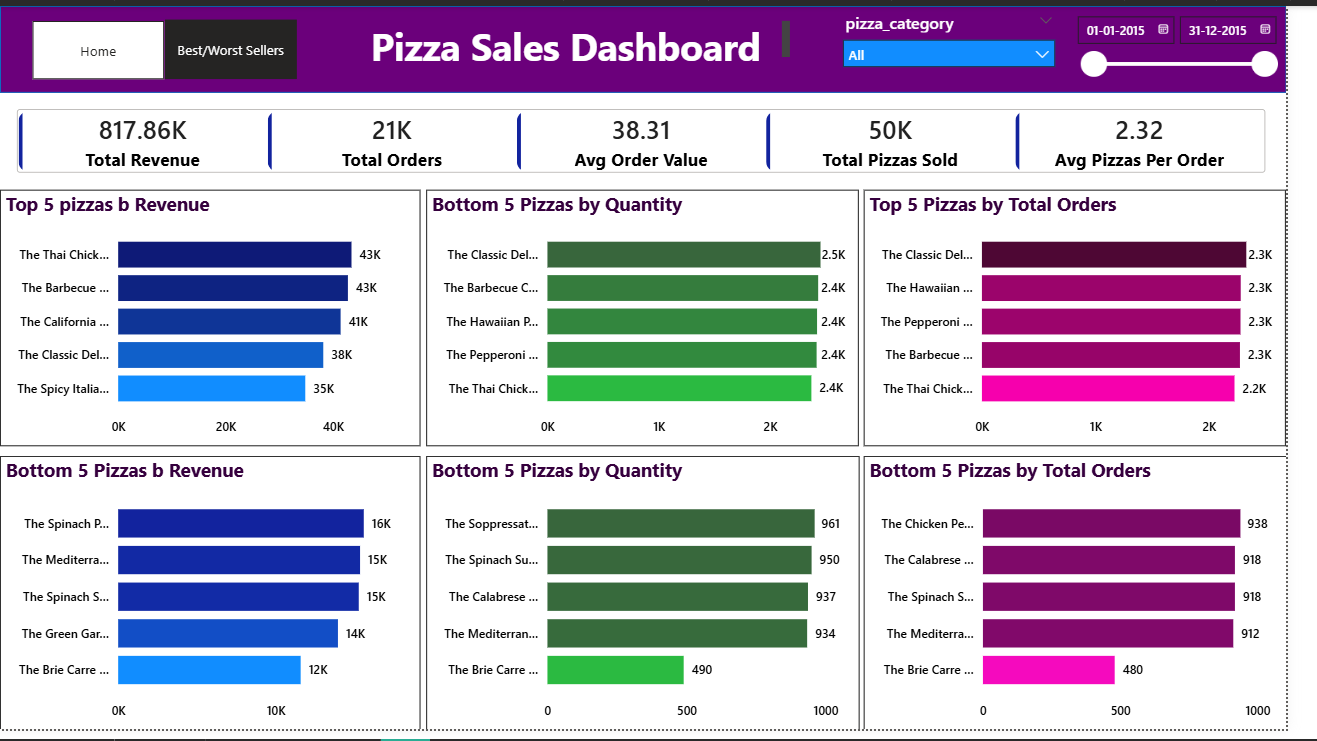

The dashboard page shown, as its layout file describes it:
{"tool":"powerbi","page":{"name":"Best/Worst Sellers","canvas":[1280,720],"ordinal":1},"visuals":[{"type":"cardVisual","fields":{"Data":["pizza_sales.Total Revenue","pizza_sales.Total Orders","pizza_sales.Avg Order Value","pizza_sales.Total Pizzas Sold","pizza_sales.Avg Pizzas Per Order"]},"box":[0,85.8,1280,97],"z":0},{"type":"shape","box":[0,0,1280.3,86.4],"z":1000},{"type":"textbox","box":[342.1,10,449.1,52.2],"z":2000},{"type":"clusteredBarChart","title":"Top 5 pizzas b Revenue","fields":{"Category":["pizza_sales.pizza_name"],"Y":["pizza_sales.Total Revenue"]},"box":[0,182.5,418.5,255.2],"z":3000},{"type":"clusteredBarChart","title":"Top 5 Pizzas by Total Orders","fields":{"Y":["pizza_sales.Total Orders"],"Category":["pizza_sales.pizza_name"]},"box":[859,182.5,419.9,255.2],"z":5000},{"type":"slicer","fields":{"Values":["pizza_sales.pizza_category"]},"box":[828.5,0,231.4,85.8],"z":6000},{"type":"slicer","fields":{"Values":["pizza_sales.order_date"]},"box":[1059.4,0,219.6,86.4],"z":7000},{"type":"clusteredBarChart","title":"Bottom 5 Pizzas b Revenue","fields":{"Category":["pizza_sales.pizza_name"],"Y":["pizza_sales.Total Revenue"]},"box":[0,447.3,418.5,273.1],"z":8000},{"type":"clusteredBarChart","title":"Bottom 5 Pizzas by Total Orders","fields":{"Y":["pizza_sales.Total Orders"],"Category":["pizza_sales.pizza_name"]},"box":[859,447.3,421.3,273.1],"z":9000},{"type":"pageNavigator","box":[32.3,14.9,131.9,58.5],"z":10000},{"type":"pageNavigator","box":[164.2,13.7,131.9,59.7],"z":11000},{"type":"clusteredBarChart","title":"Bottom 5 Pizzas by Quantity","fields":{"Category":["pizza_sales.pizza_name"],"Y":["Sum(pizza_sales.quantity)"]},"box":[424,447.3,430.9,273.1],"z":12000},{"type":"clusteredBarChart","title":"Bottom 5 Pizzas by Quantity","fields":{"Category":["pizza_sales.pizza_name"],"Y":["Sum(pizza_sales.quantity)"]},"box":[424.2,182.9,430.4,255],"z":13000}]}

Visuals, with their boxes in screenshot pixels (x1, y1, x2, y2), scaled from the page's 1280x720 canvas onto the 1317x741 screenshot:
cardVisual - pizza_sales.Total Revenue x pizza_sales.Total Orders: 0,88,1316,188
shape: 0,0,1316,89
textbox: 352,10,814,64
"Top 5 pizzas b Revenue" clusteredBarChart: 0,188,431,450
"Top 5 Pizzas by Total Orders" clusteredBarChart: 884,188,1316,450
slicer - pizza_sales.pizza_category: 852,0,1091,88
slicer - pizza_sales.order_date: 1090,0,1316,89
"Bottom 5 Pizzas b Revenue" clusteredBarChart: 0,460,431,740
"Bottom 5 Pizzas by Total Orders" clusteredBarChart: 884,460,1316,740
pageNavigator: 33,15,169,76
pageNavigator: 169,14,305,76
"Bottom 5 Pizzas by Quantity" clusteredBarChart: 436,460,880,740
"Bottom 5 Pizzas by Quantity" clusteredBarChart: 436,188,879,451
